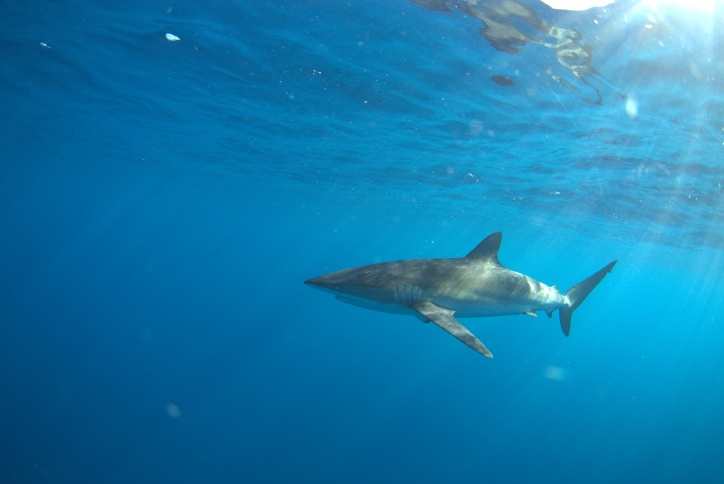Sedoso: (298, 224, 634, 378)
